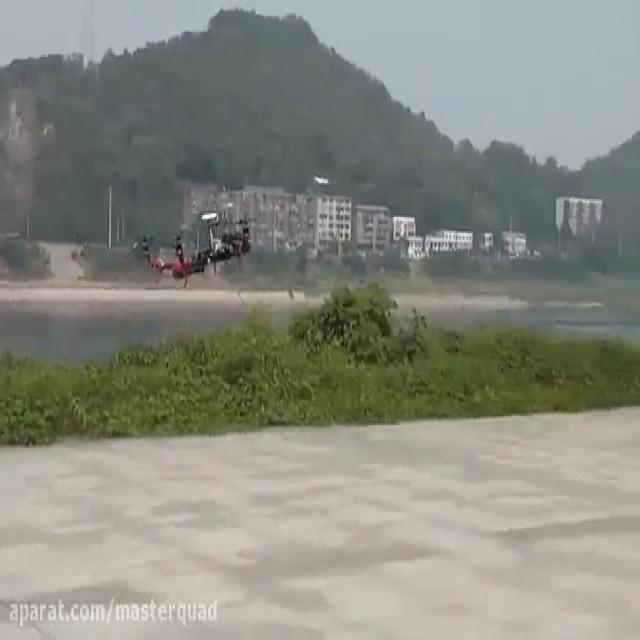drones: (120, 193, 262, 295)
